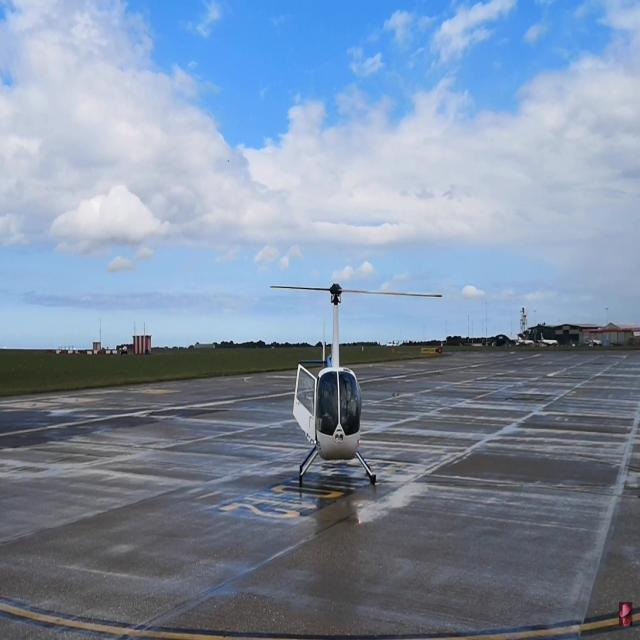CIV_HELO: (292, 282, 378, 486)
